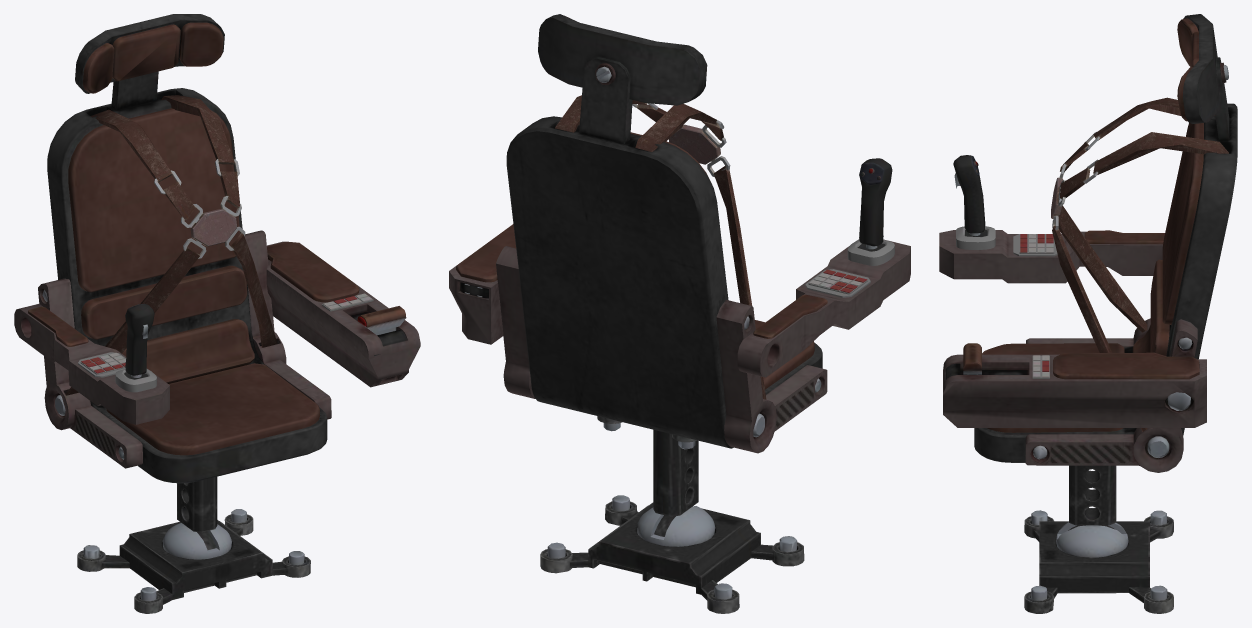
Rendered from seat.glb.
3 renders of one model, left to right at view 1: azimuth 30°, elevation 25°; view 2: azimuth 150°, elevation 25°; view 3: azimuth 270°, elevation 25°, orthographic. The views are drawn at different scales.
Parts seen in each view (by area): view 1: m; view 2: m; view 3: m.
Part boxes in pixels (<box>): m: <box>14,14,420,613</box>; m: <box>449,14,910,613</box>; m: <box>939,14,1237,613</box>.
Bounding box in the file's own units: 0.6941 × 1.15 × 0.5882.
2 materials, 2 textured.
